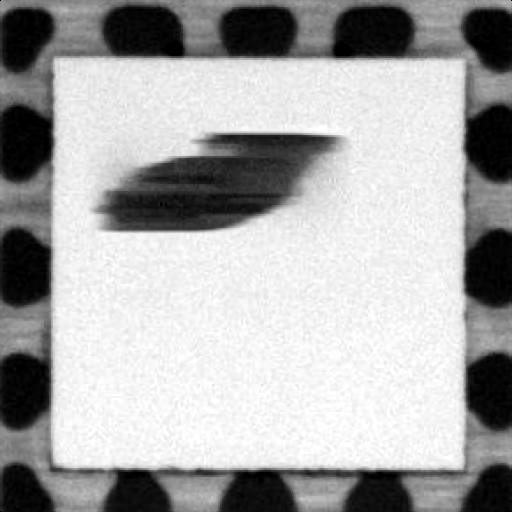DIE_INK: (90, 126, 345, 235)
